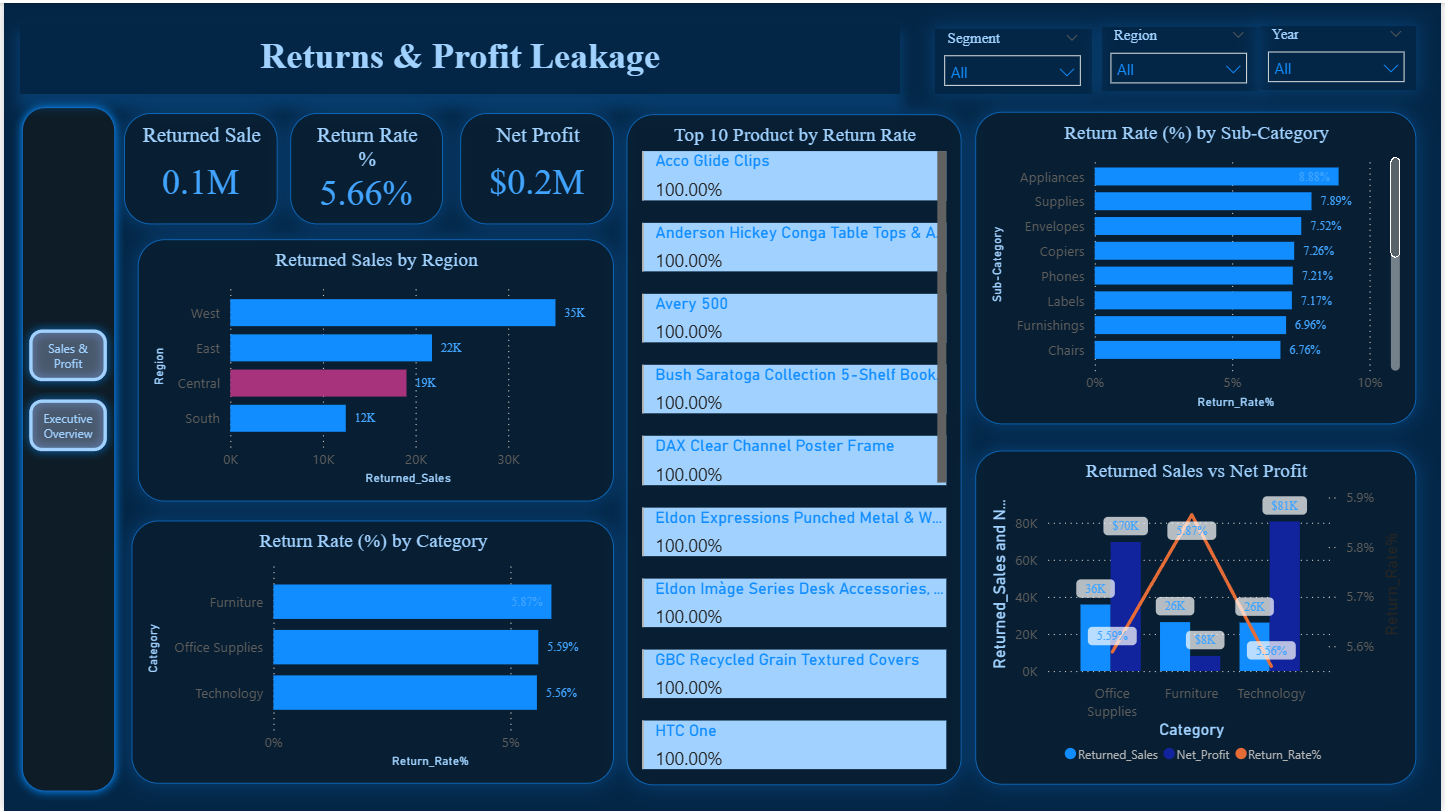

What the dashboard file says about the page in this screenshot:
{"tool":"powerbi","page":{"name":"Returns & Profit Leakage","canvas":[1280,720],"ordinal":2},"visuals":[{"type":"card","title":"Returned Sale","fields":{"Values":["_Measure.Returned_Sales"]},"box":[106.8,98.1,137.1,99.6],"z":0},{"type":"shape","box":[7.4,84.7,99.4,625.8],"z":1000},{"type":"card","title":"Net Profit","fields":{"Values":["_Measure.Net_Profit"]},"box":[406.9,98.1,137.1,99.6],"z":2000},{"type":"card","title":"Return Rate %","fields":{"Values":["_Measure.Return_Rate%"]},"box":[255.4,98.1,135.6,99.6],"z":3000},{"type":"slicer","title":"Profit Margin %","fields":{"Values":["Dim_Date.Year"]},"box":[1118.1,20.2,139.9,57.7],"z":4000},{"type":"clusteredBarChart","title":"Return Rate (%) by Sub-Category","fields":{"Y":["_Measure.Return_Rate%"],"Category":["Dim_Product.Sub-Category"]},"box":[864.7,96.7,392.5,278.8],"z":5000},{"type":"textbox","box":[14.4,17.3,783.4,63.5],"z":6000},{"type":"slicer","title":"Profit Margin %","fields":{"Values":["Dim_Customer.Region"]},"box":[977.9,20.9,139.9,57.7],"z":7000},{"type":"slicer","title":"Profit Margin %","fields":{"Values":["Dim_Customer.Segment"]},"box":[829.5,23.3,139.9,57.7],"z":8000},{"type":"actionButton","box":[14.4,344.8,85.1,62],"z":9000},{"type":"clusteredBarChart","title":"Returned Sales by Region","fields":{"Category":["Dim_Customer.Region"],"Y":["_Measure.Returned_Sales"]},"box":[119.5,210.5,423.8,233.2],"z":10000},{"type":"lineClusteredColumnComboChart","title":"Returned Sales vs Net Profit","fields":{"Category":["Dim_Product.Category"],"Y":["_Measure.Returned_Sales","_Measure.Net_Profit"],"Y2":["_Measure.Return_Rate%"]},"box":[864.7,398.2,392.5,297.2],"z":11000},{"type":"clusteredBarChart","title":"Return Rate (%) by Category","fields":{"Y":["_Measure.Return_Rate%"],"Category":["Dim_Product.Category"]},"box":[113.8,460.8,429.5,234.7],"z":12000},{"type":"multiRowCard","title":"Top 10 Product by Return Rate","fields":{"Values":["Dim_Product.Product Name","_Measure.Return_Rate%"]},"box":[554,99.6,298.7,597.3],"z":13000},{"type":"actionButton","box":[14.4,282.8,85.1,62],"z":14000}]}

Visuals, with their boxes in screenshot pixels (x1, y1, x2, y2), scaled from the page's 1280x720 canvas onto the 1445x811 screenshot:
"Returned Sale" card: Rect(121, 110, 275, 223)
shape: Rect(8, 95, 121, 800)
"Net Profit" card: Rect(459, 110, 614, 223)
"Return Rate %" card: Rect(288, 110, 441, 223)
"Profit Margin %" slicer: Rect(1262, 23, 1420, 88)
"Return Rate (%) by Sub-Category" clusteredBarChart: Rect(976, 109, 1419, 423)
textbox: Rect(16, 19, 901, 91)
"Profit Margin %" slicer: Rect(1104, 24, 1262, 89)
"Profit Margin %" slicer: Rect(936, 26, 1094, 91)
actionButton: Rect(16, 388, 112, 458)
"Returned Sales by Region" clusteredBarChart: Rect(135, 237, 613, 500)
"Returned Sales vs Net Profit" lineClusteredColumnComboChart: Rect(976, 449, 1419, 783)
"Return Rate (%) by Category" clusteredBarChart: Rect(128, 519, 613, 783)
"Top 10 Product by Return Rate" multiRowCard: Rect(625, 112, 963, 785)
actionButton: Rect(16, 319, 112, 388)
